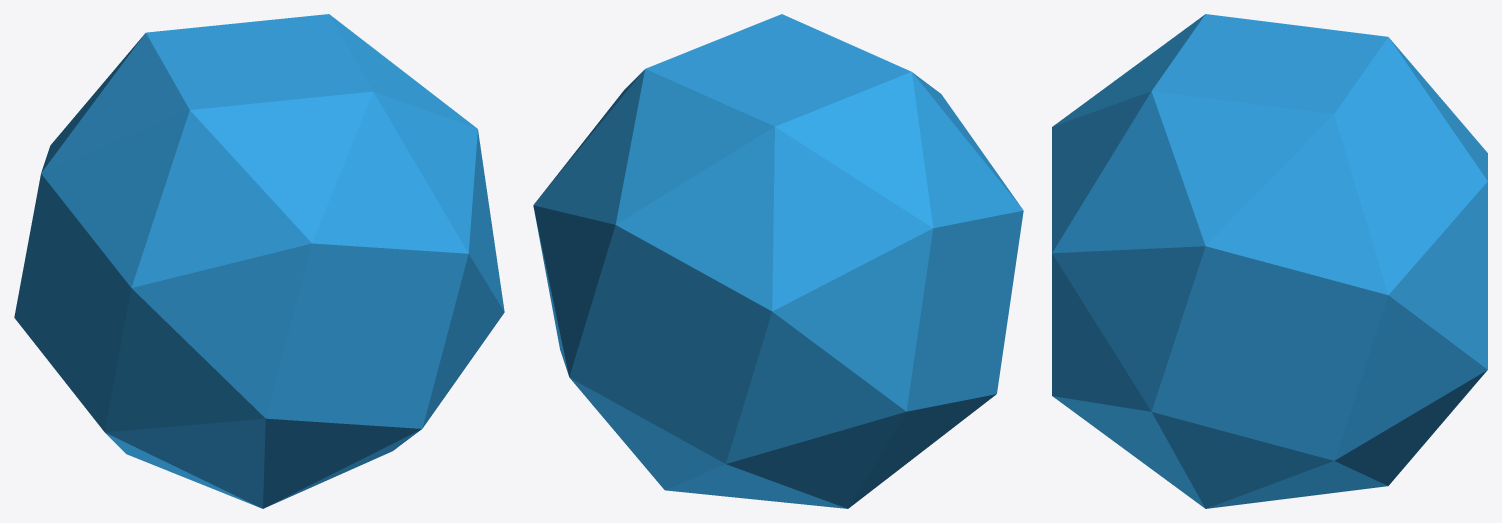
Rendered from cuboctahedron.gltf.
The picture shows the model from 3 angles, left to right: view 1: azimuth 30°, elevation 25°; view 2: azimuth 150°, elevation 25°; view 3: azimuth 270°, elevation 25°; orthographic projection.
Parts seen in each view (by area): view 1: Solid.002; view 2: Solid.002; view 3: Solid.002.
Boxes of the visible parts, box(x1,y1,x2,y2) form: Solid.002: box(14, 14, 504, 508); Solid.002: box(533, 14, 1023, 508); Solid.002: box(1052, 14, 1487, 508).
Bounding box in the file's own units: 1.15 × 1.15 × 1.15.
